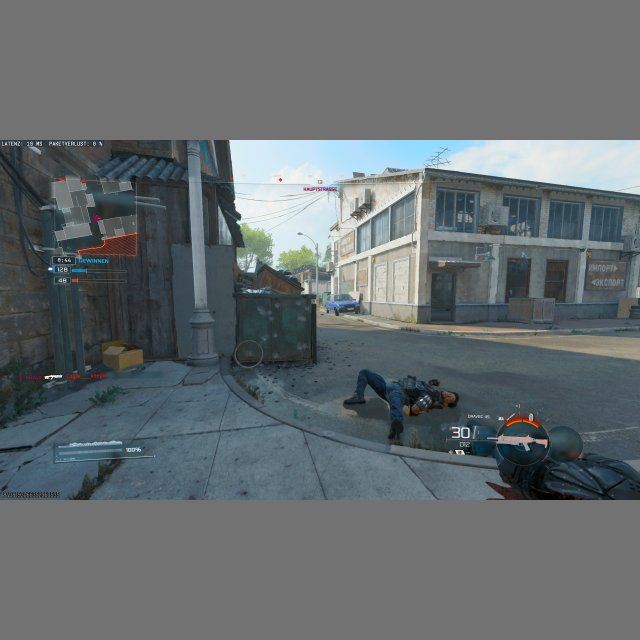head: (438, 390, 458, 409)
